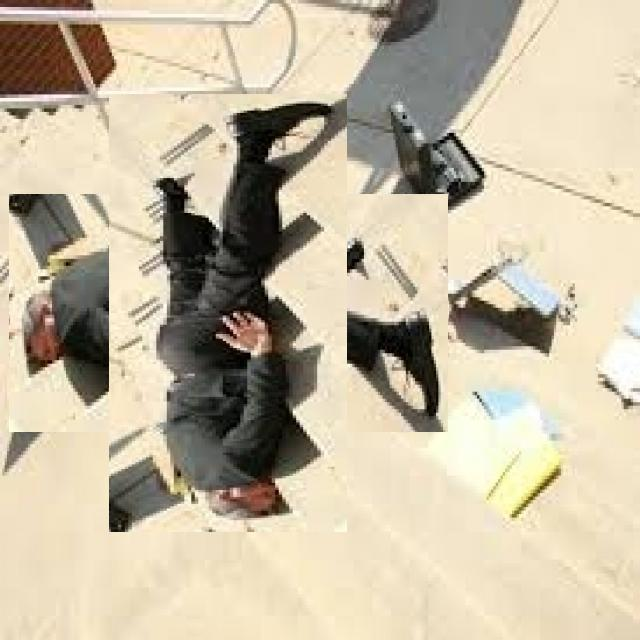Fall: (112, 92, 364, 562)
